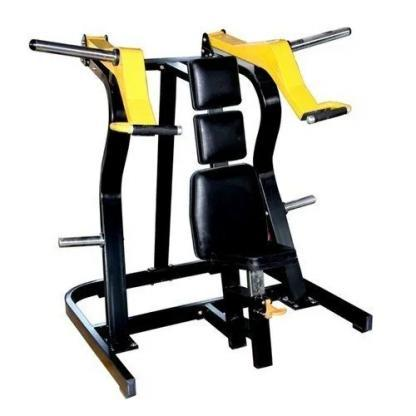shoulder press machine: (26, 23, 376, 401)
